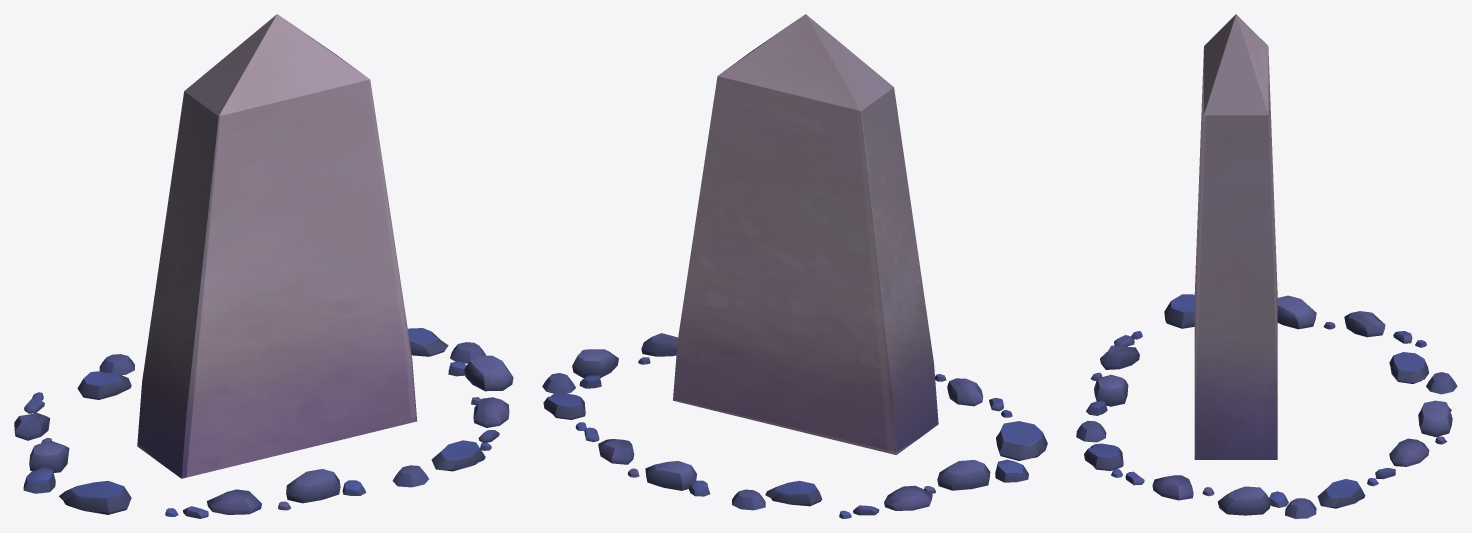
File: centerrock.fbx
3 views of the same model, side by side, from view 1: azimuth 30°, elevation 25°; view 2: azimuth 150°, elevation 25°; view 3: azimuth 270°, elevation 25° (orthographic). The views are drawn at different scales.
Parts seen in each view (by area): view 1: pCube1, polySurface27, polySurface32, polySurface8, polySurface3, polySurface19, polySurface29, polySurface24, polySurface5, polySurface11, polySurface21, polySurface23 (+2 smaller); view 2: pCube1, polySurface27, polySurface24, polySurface16, polySurface19, polySurface8, polySurface21, polySurface11, polySurface29, polySurface13, polySurface5, polySurface23 (+1 smaller); view 3: pCube1, polySurface8, polySurface24, polySurface16, polySurface19, polySurface11, polySurface27, polySurface32, polySurface3, polySurface13, polySurface5, polySurface21 (+4 smaller).
Boxes of the visible parts, x1=… form: pCube1: x1=137, y1=14, x2=416, y2=478; polySurface27: x1=59, y1=481, x2=131, y2=514; polySurface32: x1=286, y1=469, x2=340, y2=503; polySurface8: x1=464, y1=355, x2=513, y2=391; polySurface3: x1=431, y1=440, x2=485, y2=471; polySurface19: x1=77, y1=371, x2=131, y2=399; polySurface29: x1=207, y1=489, x2=261, y2=514; polySurface24: x1=29, y1=441, x2=69, y2=472; polySurface5: x1=473, y1=397, x2=509, y2=427; polySurface11: x1=408, y1=328, x2=448, y2=356; polySurface21: x1=14, y1=413, x2=50, y2=440; polySurface23: x1=23, y1=467, x2=55, y2=493; pCube1: x1=673, y1=14, x2=938, y2=454; polySurface27: x1=996, y1=421, x2=1047, y2=460; polySurface24: x1=937, y1=460, x2=990, y2=490; polySurface16: x1=645, y1=461, x2=696, y2=490; polySurface19: x1=765, y1=480, x2=822, y2=506; polySurface8: x1=572, y1=349, x2=618, y2=378; polySurface21: x1=884, y1=485, x2=932, y2=510; polySurface11: x1=543, y1=392, x2=585, y2=419; polySurface29: x1=947, y1=378, x2=983, y2=406; polySurface13: x1=598, y1=439, x2=634, y2=464; polySurface5: x1=641, y1=333, x2=677, y2=356; polySurface23: x1=995, y1=459, x2=1028, y2=482; pCube1: x1=1194, y1=14, x2=1277, y2=459; polySurface8: x1=1217, y1=486, x2=1271, y2=515; polySurface24: x1=1277, y1=295, x2=1316, y2=329; polySurface16: x1=1418, y1=400, x2=1452, y2=436; polySurface19: x1=1389, y1=352, x2=1428, y2=383; polySurface11: x1=1317, y1=479, x2=1365, y2=508; polySurface27: x1=1164, y1=294, x2=1194, y2=328; polySurface32: x1=1094, y1=374, x2=1128, y2=406; polySurface3: x1=1084, y1=443, x2=1123, y2=470; polySurface13: x1=1389, y1=438, x2=1429, y2=466; polySurface5: x1=1152, y1=475, x2=1193, y2=500; polySurface21: x1=1344, y1=311, x2=1385, y2=337.
Size of the model in its own units: 18.64 by 15.58 by 13.58.
